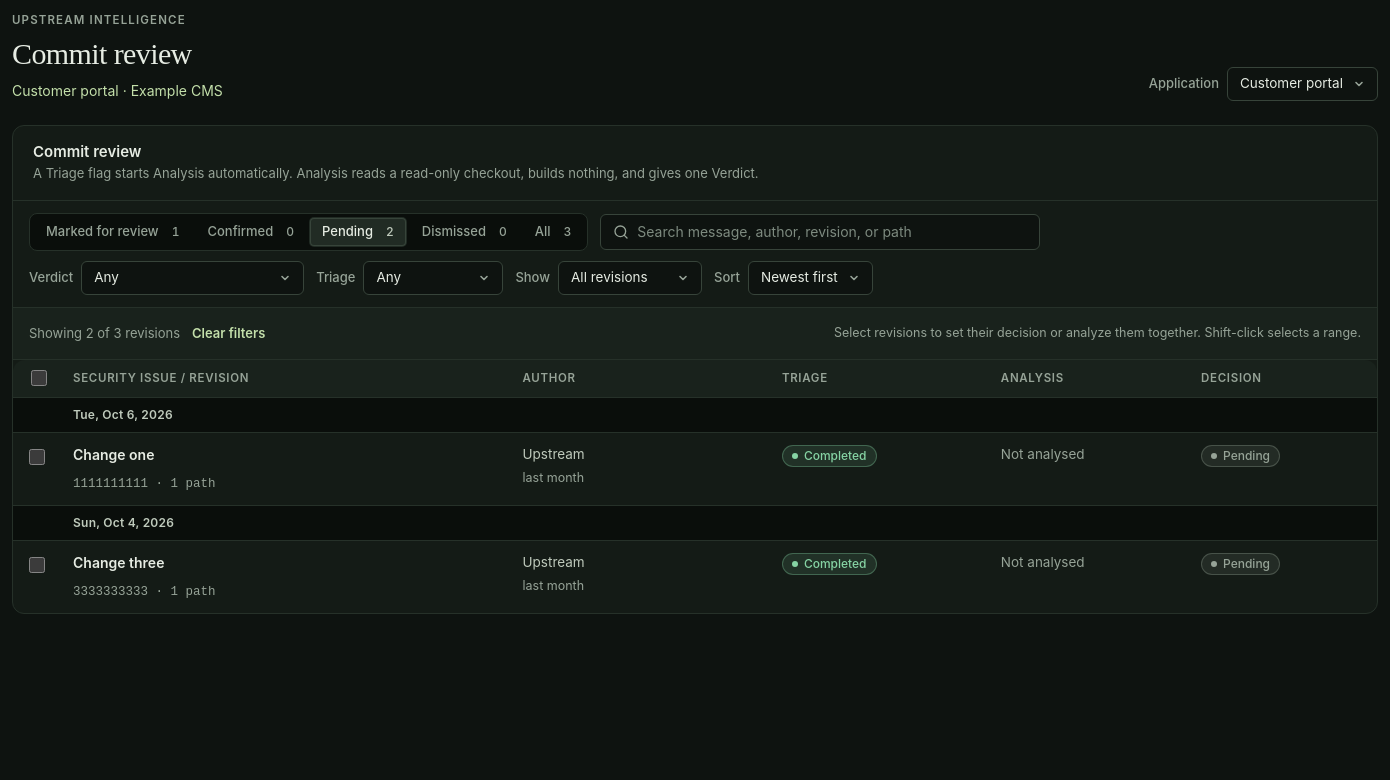
Test case: selects every matching revision but never changes a hidden one
The width and height of the screenshot is (1390, 780).
What coordinates should you click on to do the following:
click the checkbox named "Select all shown revisions"
I would click on:
 (39, 378)
Its box is top-left (31, 370), bottom-right (47, 386).
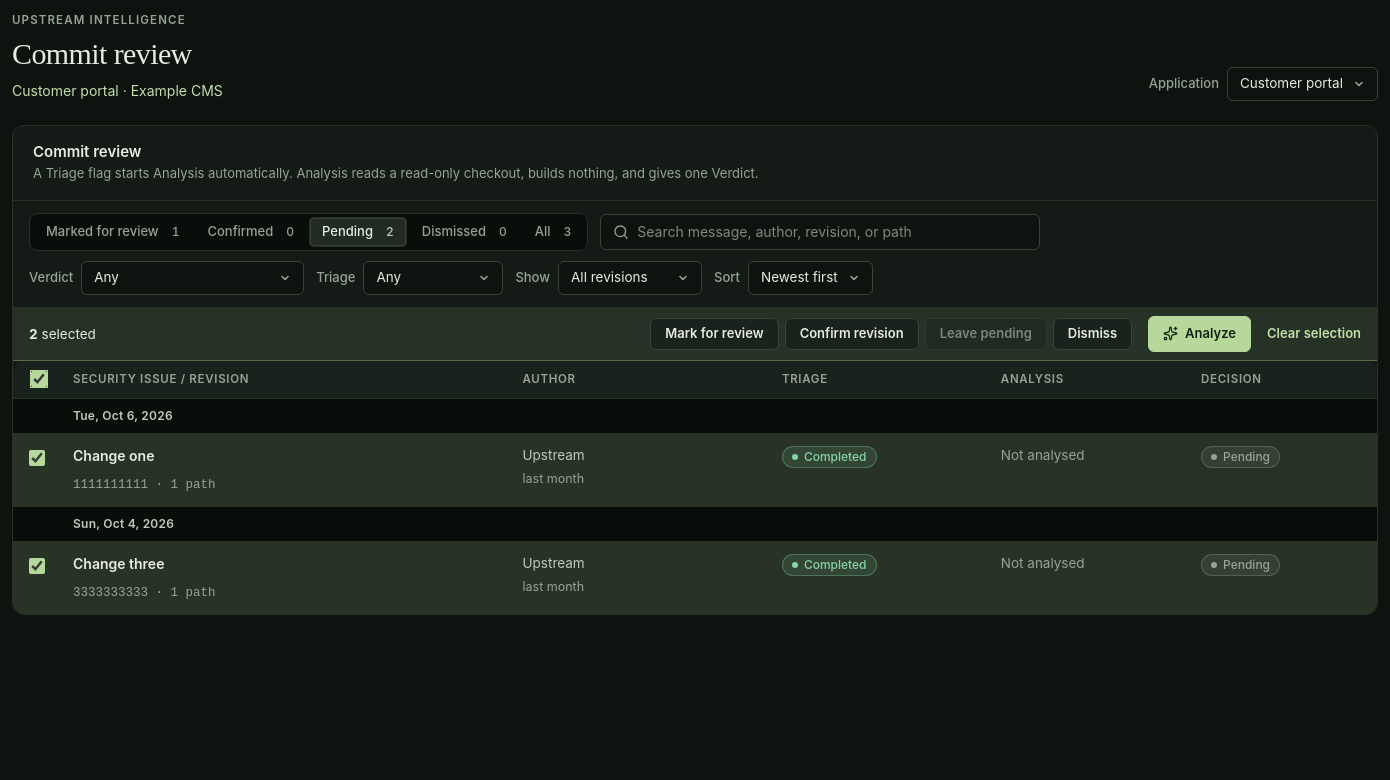
Check: the text "2 selected" is shown, box top-left (29, 324), bottom-right (96, 344)
Check: the button "Leave pending" is disabled, box top-left (925, 318), bottom-right (1047, 350)
// Changing the view drops the selection instead of acting on hidden rows.
What coordinates should you click on to do the following:
click the button "All 3"
I would click on:
 (553, 232)
Its box is top-left (522, 217), bottom-right (584, 247).
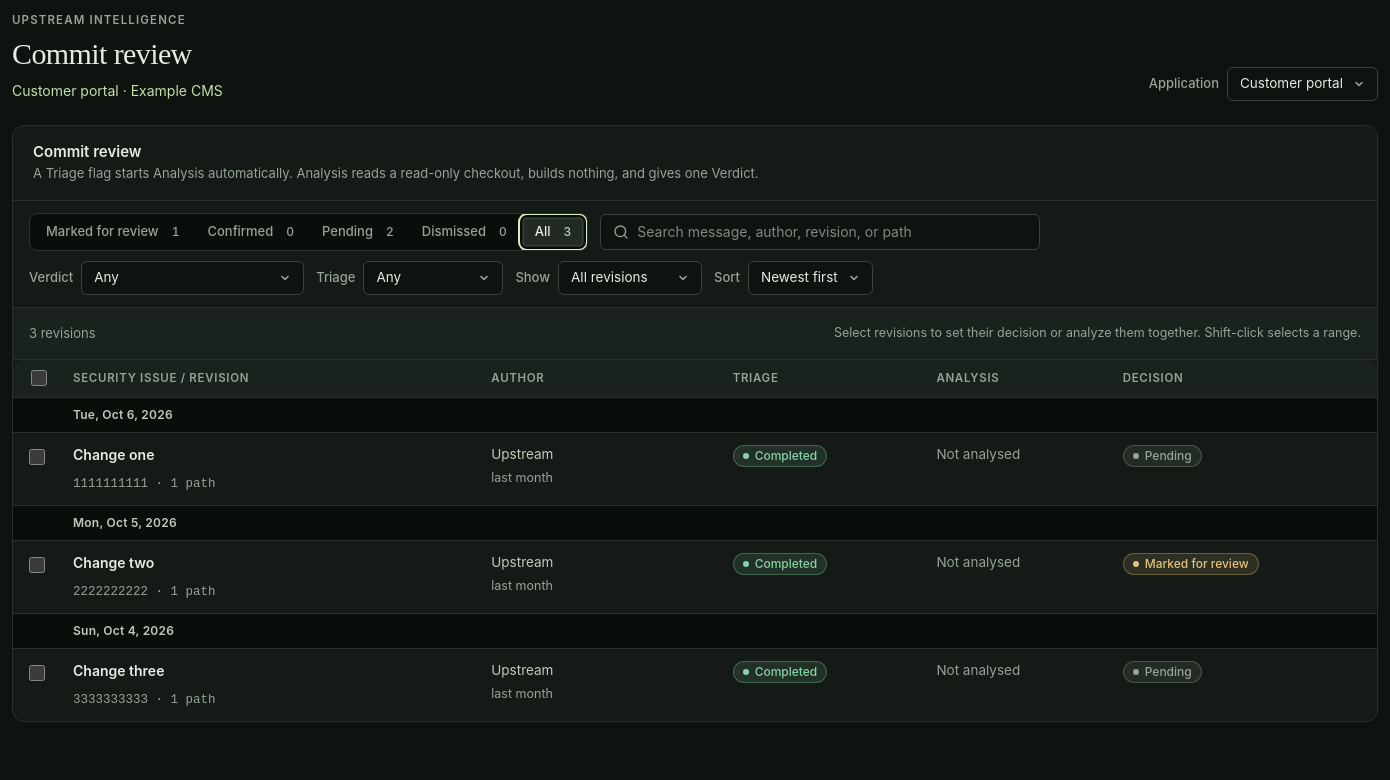
Check: the text "selected" is gone
Check: the checkbox named "Select Change one" is not checked, box top-left (29, 449), bottom-right (45, 465)
